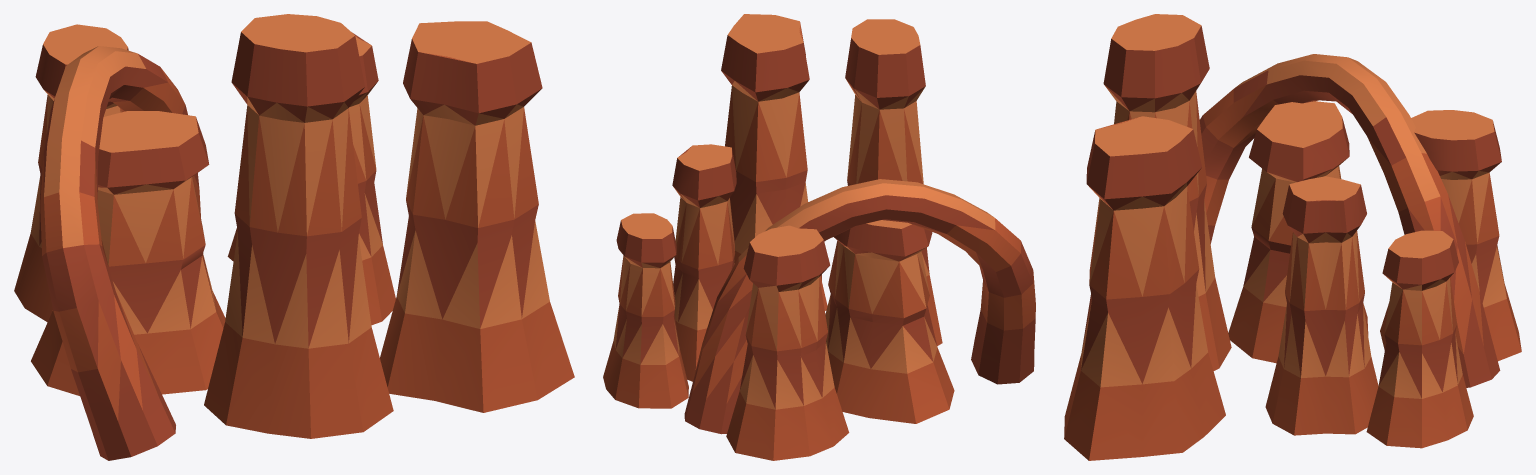
File: AgujasDesierto.fbx
3 renders of one model, left to right at view 1: azimuth 30°, elevation 25°; view 2: azimuth 150°, elevation 25°; view 3: azimuth 270°, elevation 25°, orthographic. The views are drawn at different scales.
Visible parts, largest first — view 1: AgujasDesierto; view 2: AgujasDesierto; view 3: AgujasDesierto.
Part boxes in pixels (box(x1,y1,x2,y2)): AgujasDesierto: box(14, 14, 574, 460); AgujasDesierto: box(603, 14, 1035, 460); AgujasDesierto: box(1064, 14, 1521, 460).
Size of the model in its own units: 87.61 by 71.77 by 87.98.
1 material, 1 textured.
